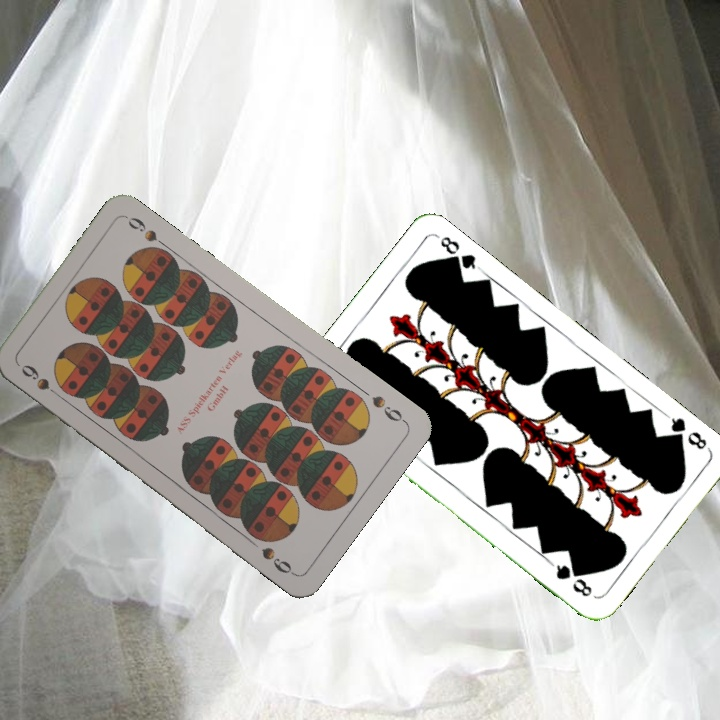G8: (662, 410, 712, 453)
S9: (17, 360, 66, 402), (367, 391, 409, 426)
